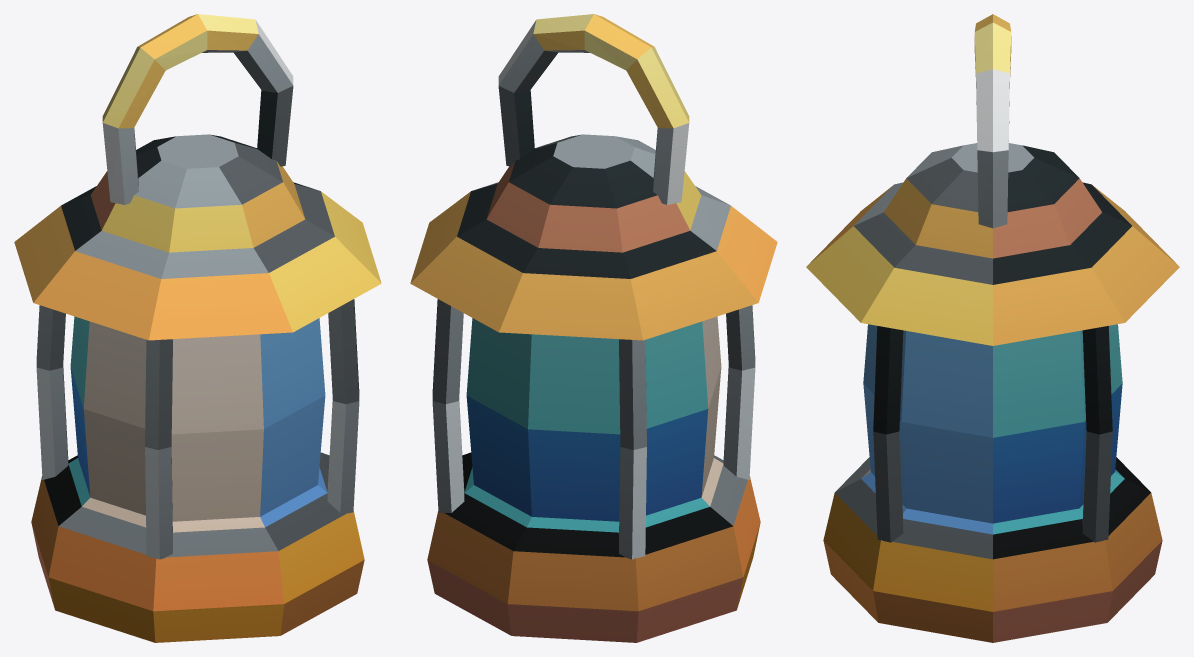
File: tool_lantern_brass.glb
The picture shows the model from 3 angles, left to right: view 1: azimuth 30°, elevation 25°; view 2: azimuth 150°, elevation 25°; view 3: azimuth 270°, elevation 25°; orthographic projection.
Visible parts, largest first — view 1: model; view 2: model; view 3: model.
Boxes of the visible parts, <box> form: model: <box>14,14,381,642</box>; model: <box>410,14,777,642</box>; model: <box>806,14,1179,642</box>.
Size of the model in its own units: 0.496 by 0.808 by 0.496.
Materials: 1 (1 with a texture image).
